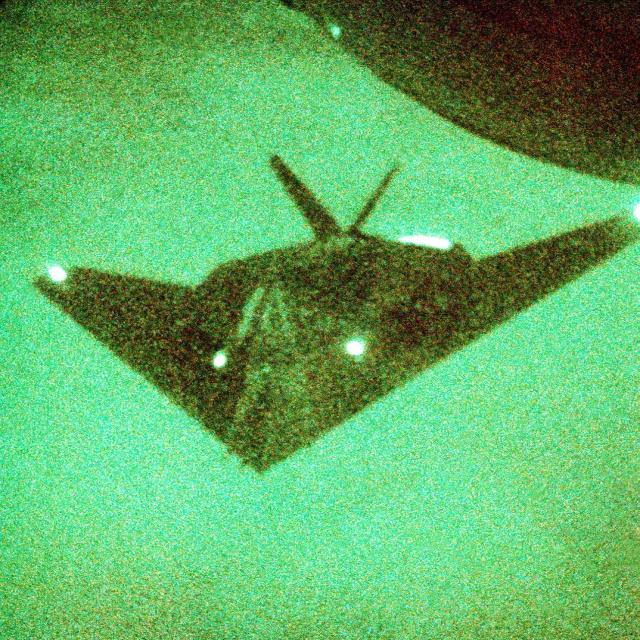MIL_Plane: (31, 153, 640, 479)
